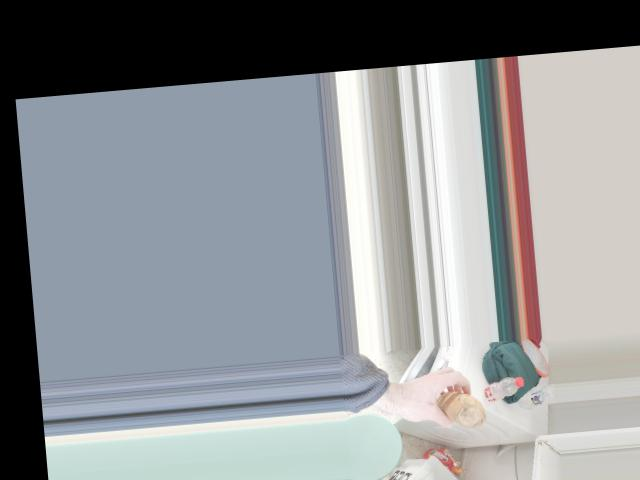sweet_potato: (434, 386, 486, 430)
